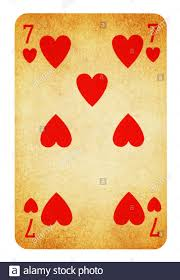seven of hearts: (15, 14, 167, 248)
